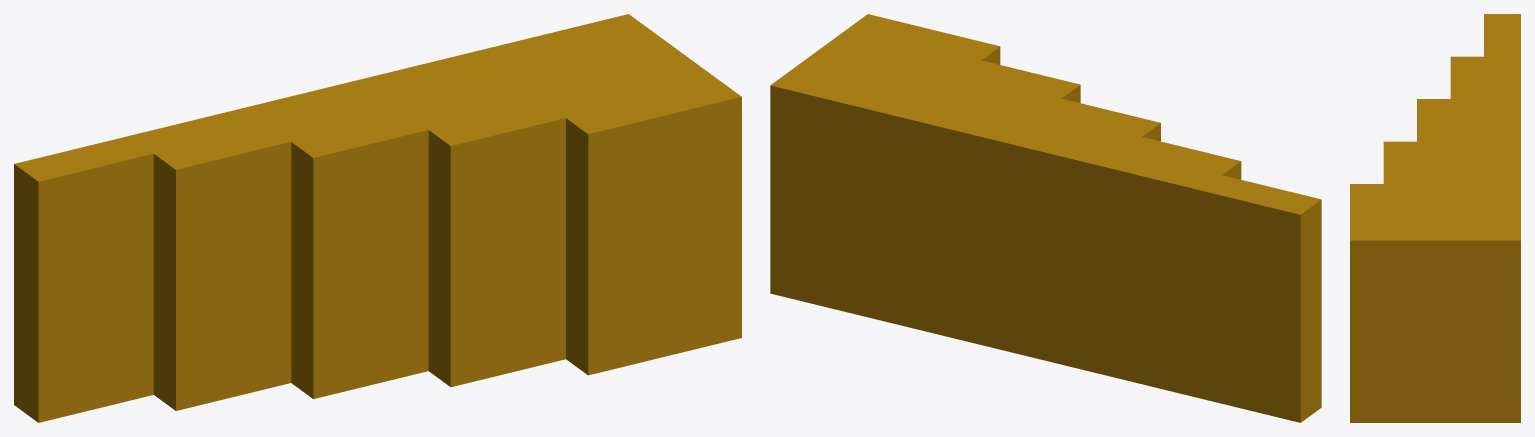
The model's file is nil_link_mesh.dae.
3 views of the same model, side by side, from view 1: azimuth 30°, elevation 25°; view 2: azimuth 150°, elevation 25°; view 3: azimuth 270°, elevation 25° (orthographic). The views are drawn at different scales.
Parts seen in each view (by area): view 1: nil_link; view 2: nil_link; view 3: nil_link.
Part boxes in pixels (bbox=[...]): nil_link: bbox=[14, 14, 741, 422]; nil_link: bbox=[770, 14, 1321, 422]; nil_link: bbox=[1350, 14, 1520, 422].
Bounding box in the file's own units: 1.6 × 0.6 × 0.51.
